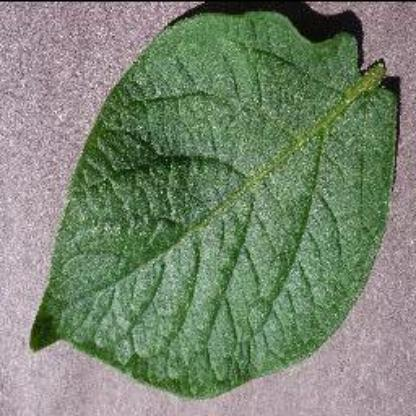Healthy-plant: (24, 6, 400, 402)
